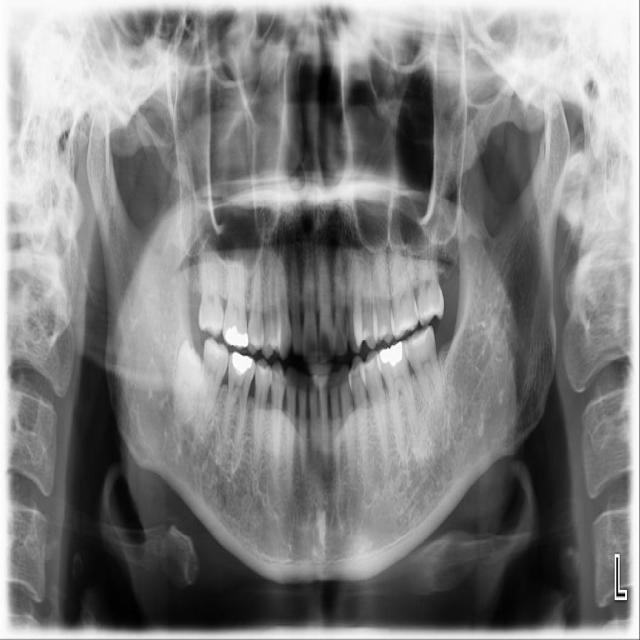52: (371, 337, 420, 385), (221, 350, 260, 388), (222, 310, 248, 352)
73: (615, 573, 619, 577)
BioHorizons Implant: (408, 221, 446, 329)
Blue Sky Bio Implant: (401, 324, 449, 420)
Caries: (194, 238, 226, 340)
Implant: (196, 335, 232, 424)
Keystone Dental Implant: (170, 338, 209, 425)
